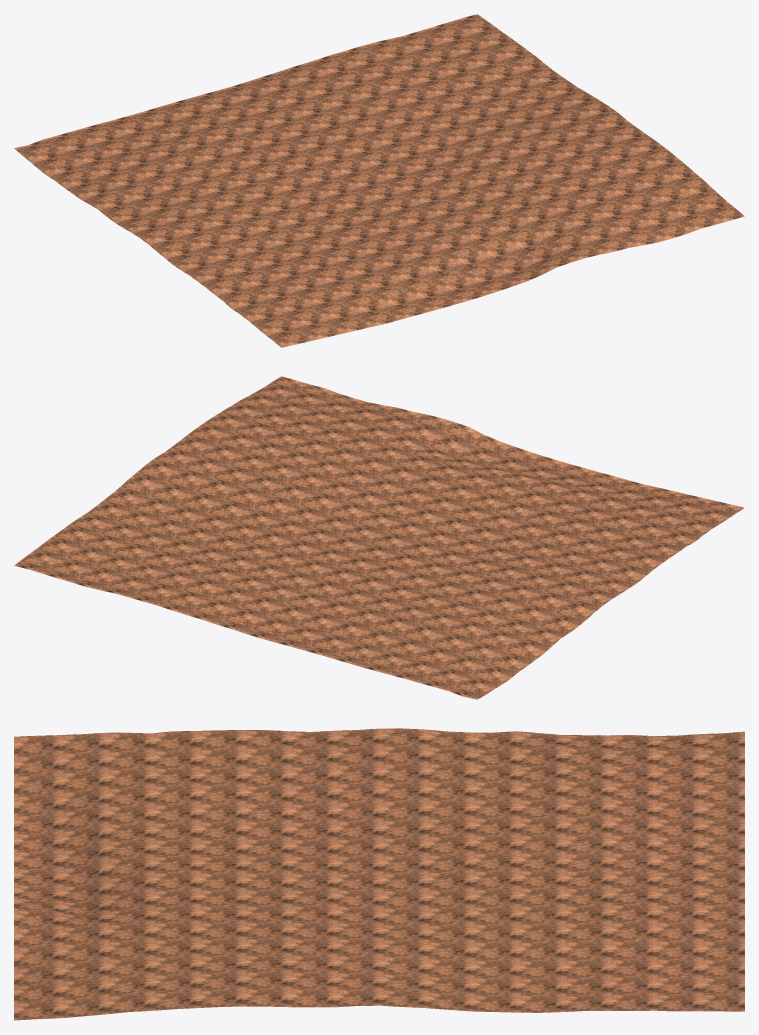
The model's file is terrain_09_18.dae.
3 renders of one model, top to bottom at view 1: azimuth 30°, elevation 25°; view 2: azimuth 150°, elevation 25°; view 3: azimuth 270°, elevation 25°, orthographic. The views are drawn at different scales.
Parts seen in each view (by area): view 1: terrain_09_18-node; view 2: terrain_09_18-node; view 3: terrain_09_18-node.
Part boxes in pixels (left/top/right/bottom): terrain_09_18-node: left=14, top=14, right=744, bottom=347; terrain_09_18-node: left=14, top=376, right=744, bottom=699; terrain_09_18-node: left=14, top=728, right=744, bottom=1020.
Bounding box in the file's own units: 128 × 128 × 8.07.
Materials: 1 (1 with a texture image).
